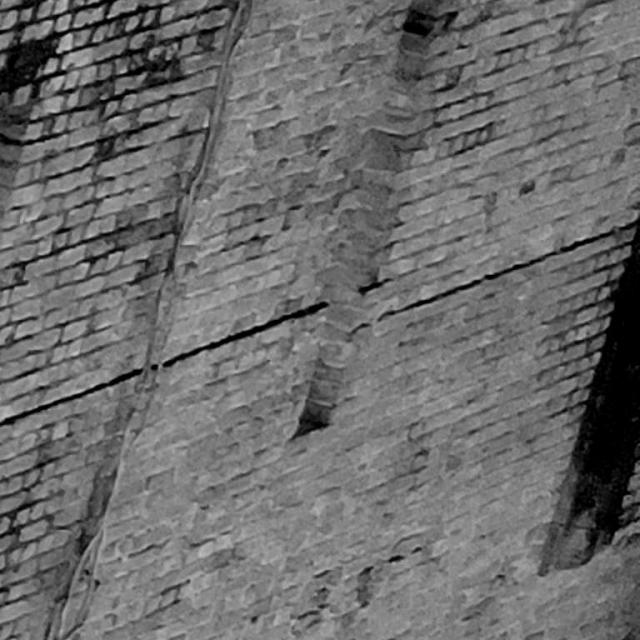crack: (1, 303, 327, 425), (351, 219, 638, 333), (358, 279, 389, 293)
